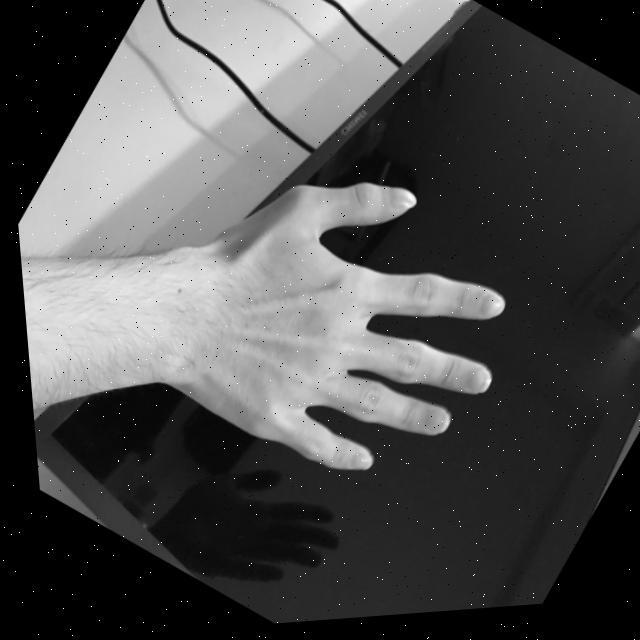no-gloves: (128, 114, 571, 554)
